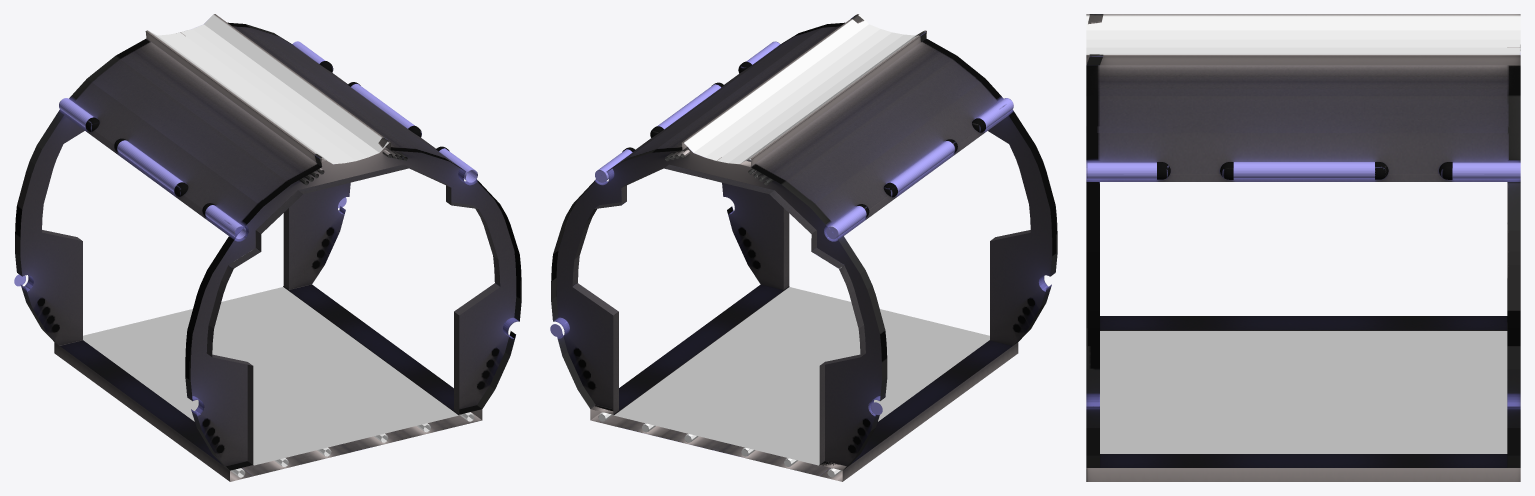
File: Modulo_corridoio_DXSX.fbx
The picture shows the model from 3 angles, left to right: view 1: azimuth 30°, elevation 25°; view 2: azimuth 150°, elevation 25°; view 3: azimuth 270°, elevation 25°; orthographic projection. The views are drawn at different scales.
Visible parts, largest first — view 1: Corridoio_001, Pavimento_001; view 2: Corridoio_001, Pavimento_001; view 3: Corridoio_001, Pavimento_001.
Boxes of the visible parts, x1,y1,x2,y2 form: Corridoio_001: (14, 14, 521, 481); Pavimento_001: (83, 287, 458, 465); Corridoio_001: (550, 14, 1057, 481); Pavimento_001: (614, 287, 989, 465); Corridoio_001: (1086, 14, 1520, 481); Pavimento_001: (1100, 331, 1507, 453).
Bounding box in the file's own units: 7.06 × 6.1 × 6.47.
